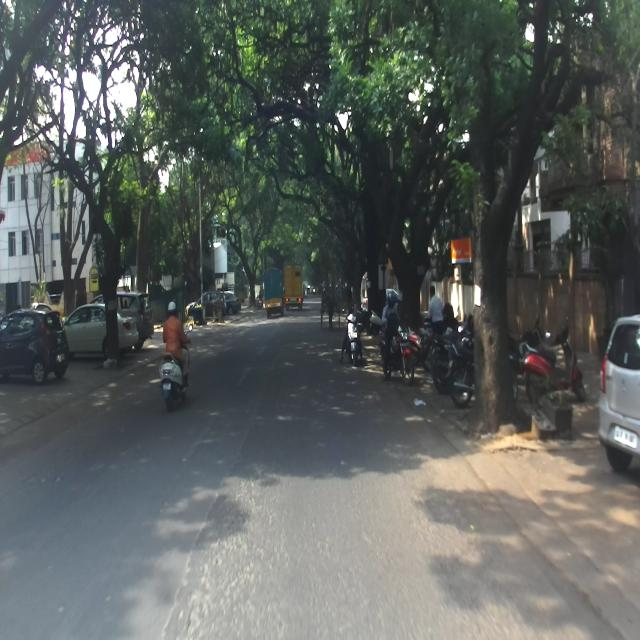car ahead at: (0, 305, 73, 393)
motorcycle ahead at: (156, 346, 191, 403)
tree ahead at: (477, 133, 517, 430), (92, 234, 123, 362)
